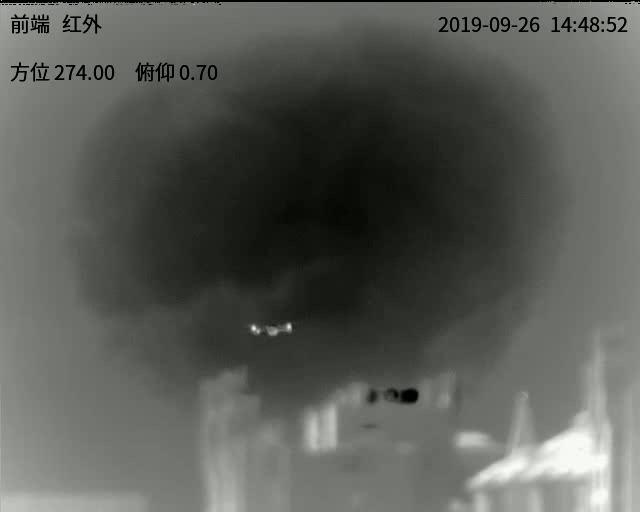DRONE: (247, 321, 293, 337)
